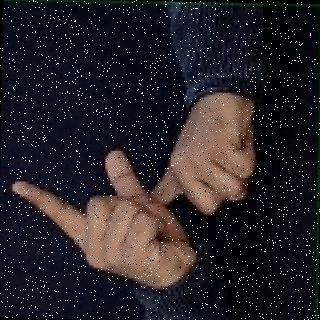Y: (3, 96, 268, 280)
